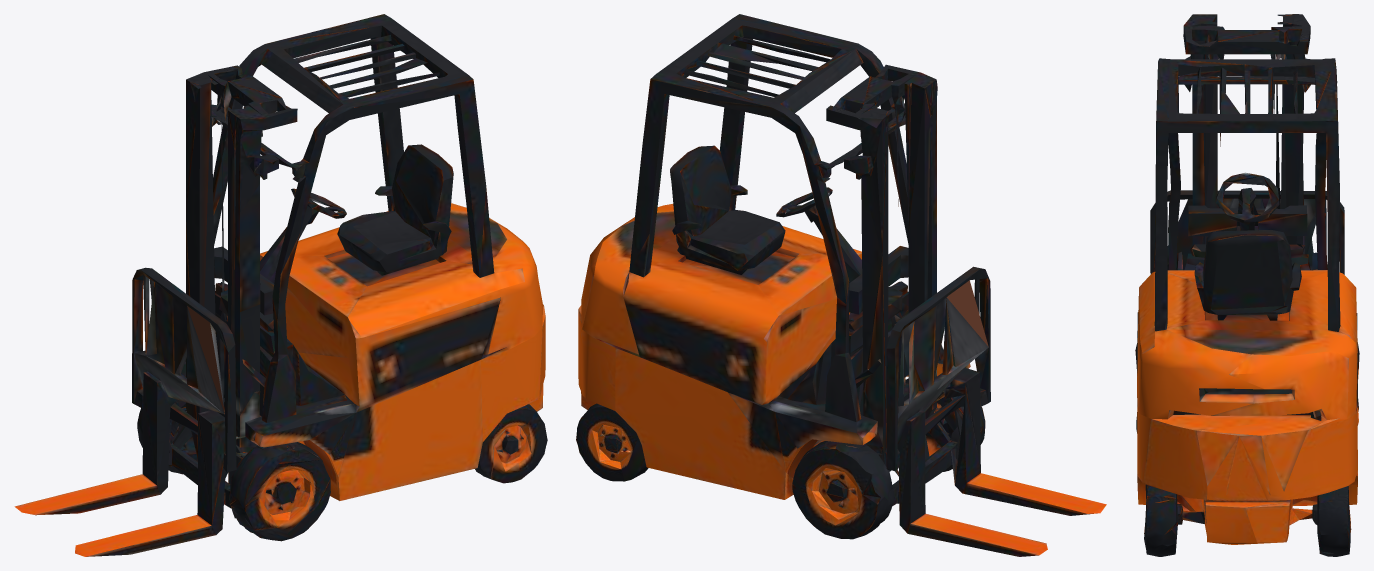
Rendered from forklift.glb.
The picture shows the model from 3 angles, left to right: view 1: azimuth 30°, elevation 25°; view 2: azimuth 150°, elevation 25°; view 3: azimuth 270°, elevation 25°; orthographic projection.
Bounding box in the file's own units: 1.9 × 1.56 × 0.7603.
1 material, 1 textured.
